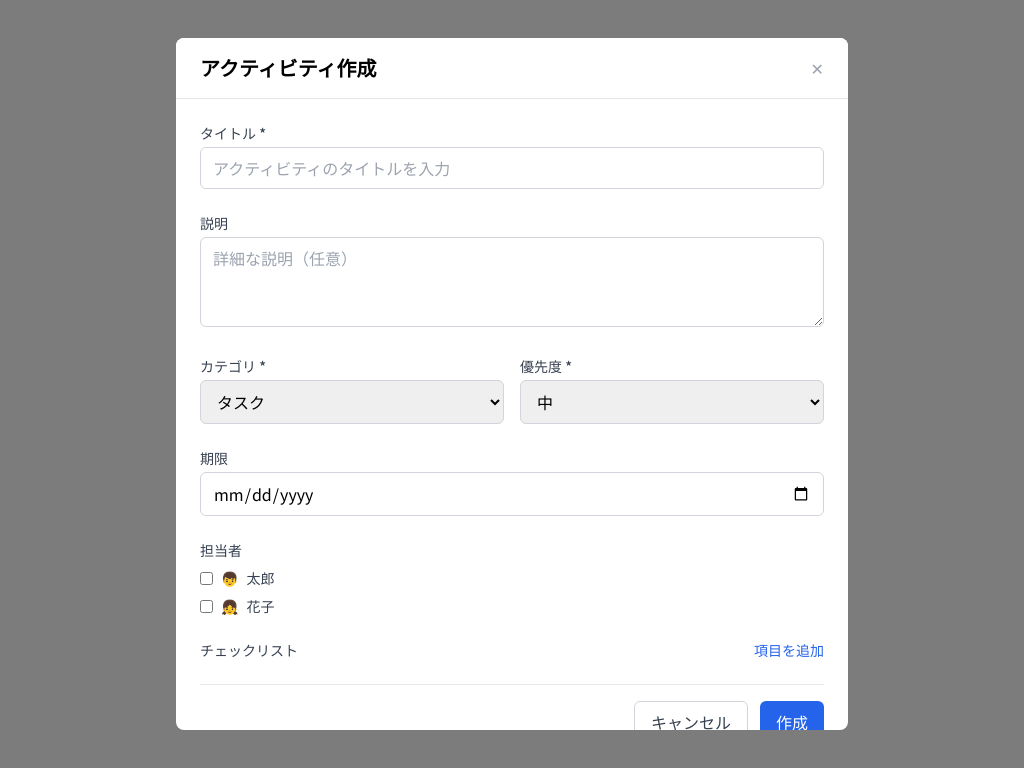
Test: ActivityForm › form submission › should handle submission errors
Type "新しいタスク" into the field labelled "タイトル *" at (512, 168), box [200,147,824,189]
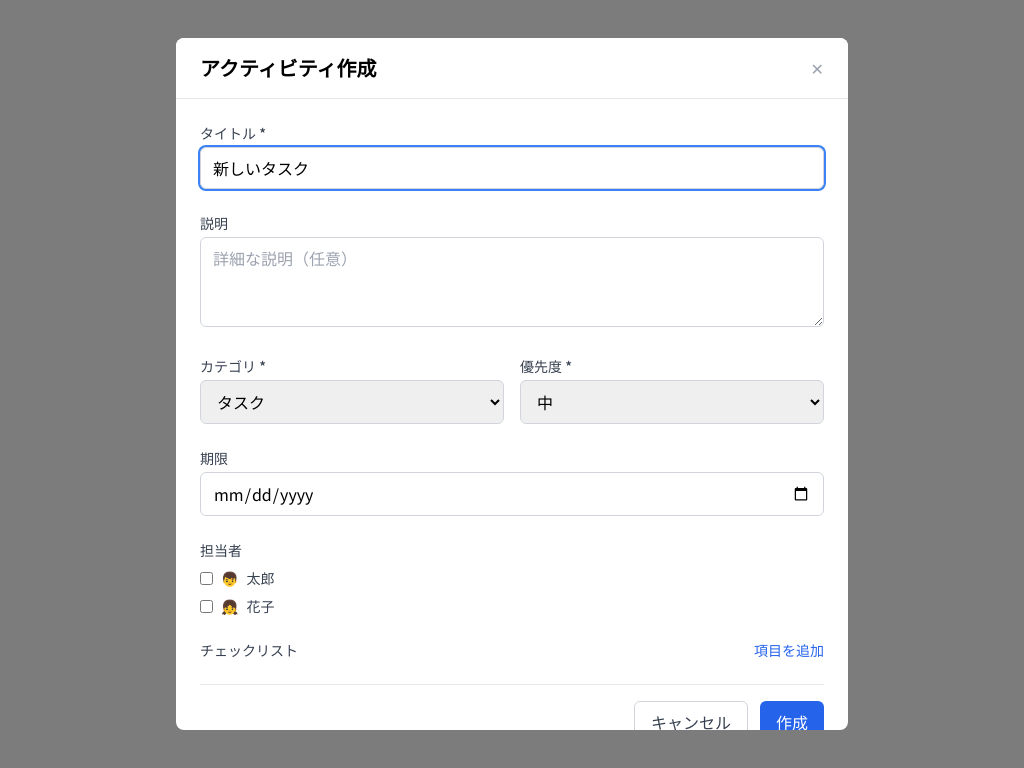
Click the button "作成" at (792, 722), box [760,701,824,743]
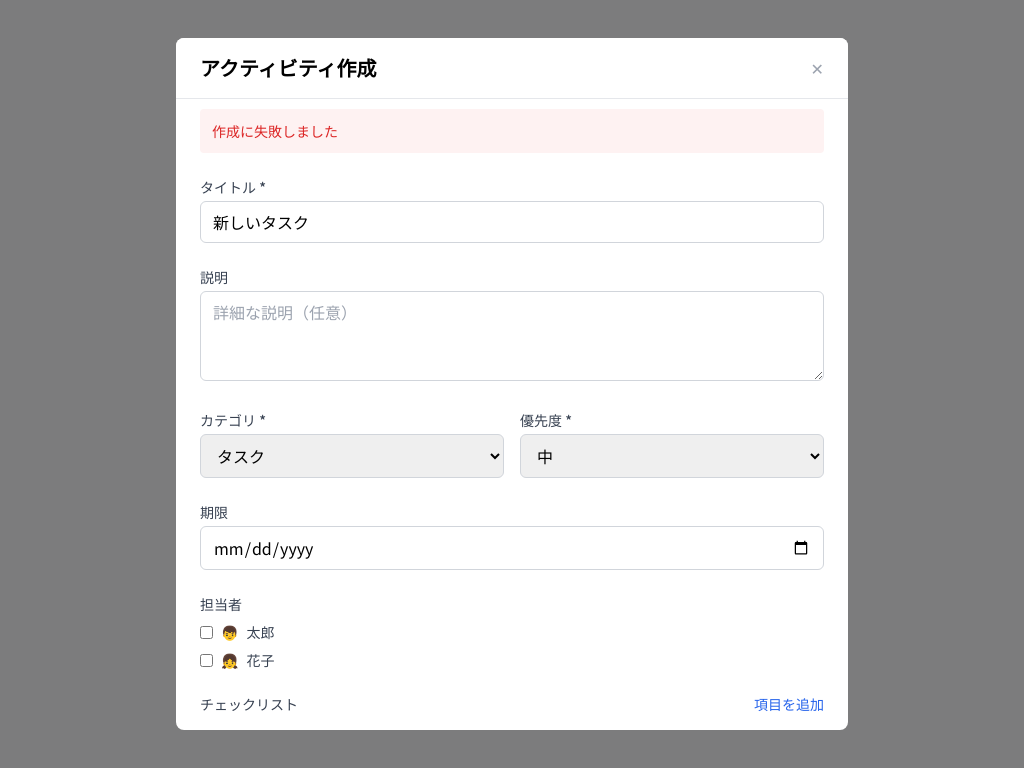
Result: the text "作成に失敗しました" is shown at [200,109,824,153]
